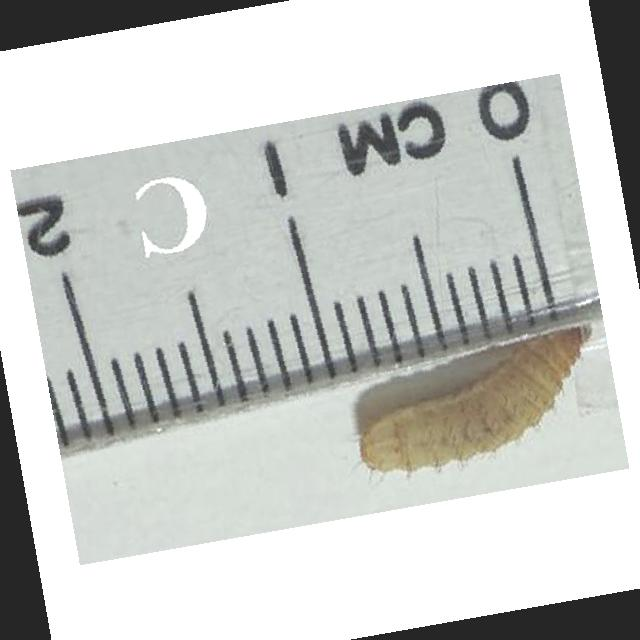Maggot: (359, 325, 597, 474)
